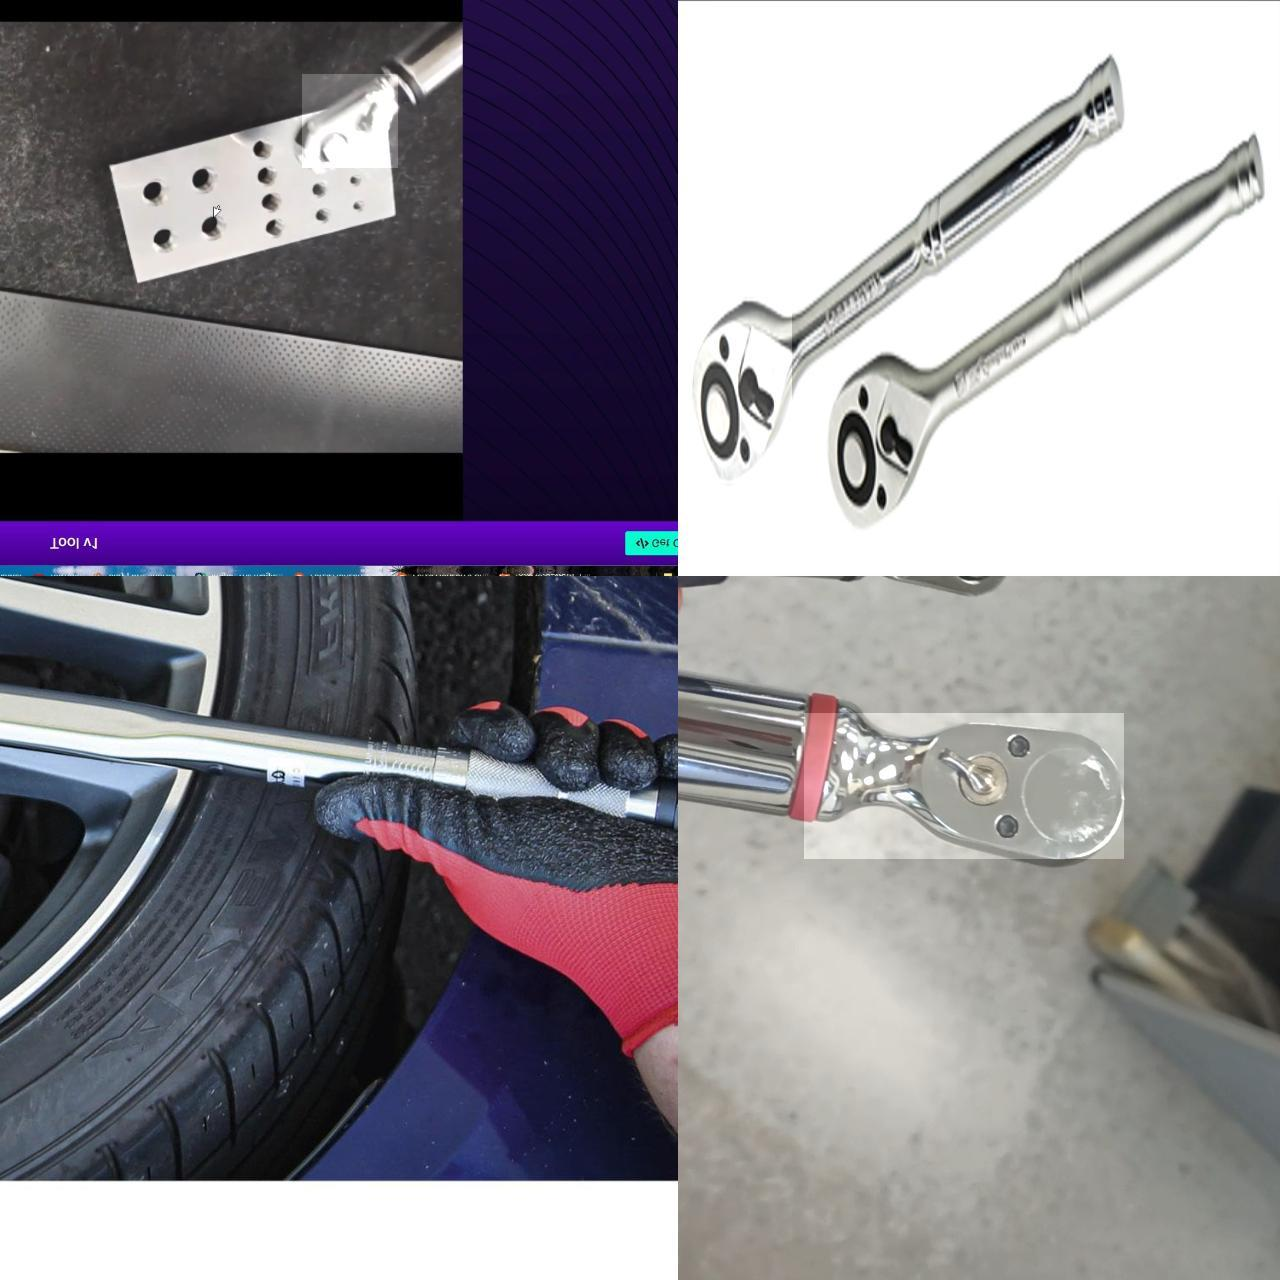Tool: (804, 713, 1124, 859), (824, 345, 932, 524), (689, 298, 792, 483), (302, 74, 399, 168), (853, 576, 1016, 610)
